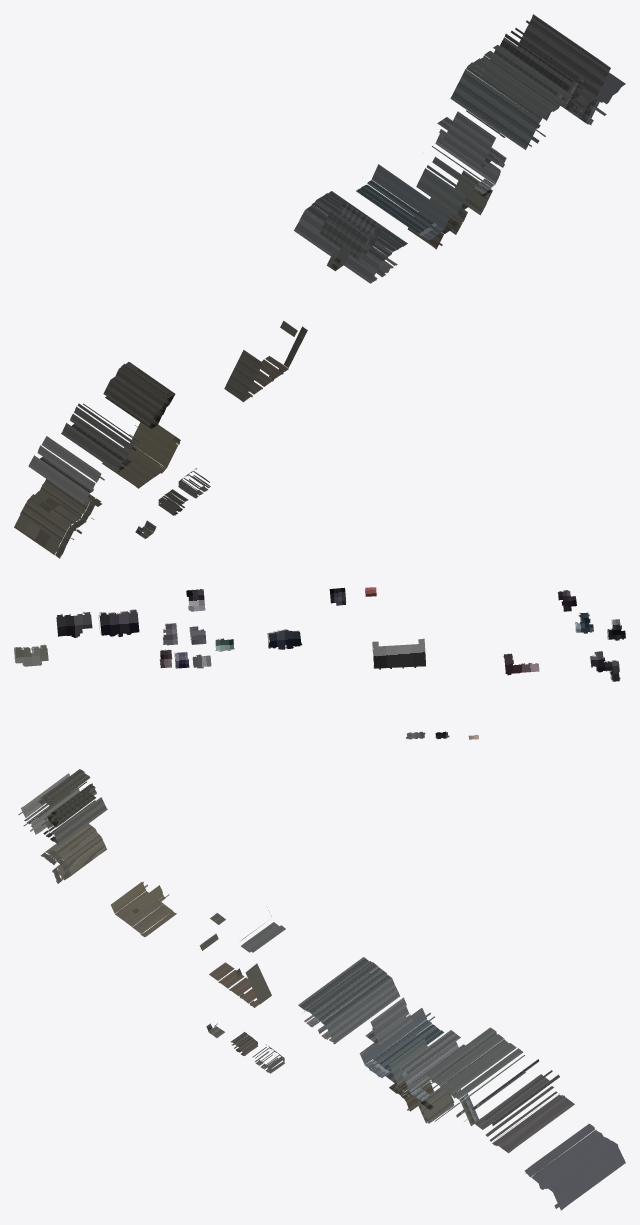
File: tile_LOD2_r0_c3.glb
The picture shows the model from 3 angles, top to bottom: view 1: azimuth 30°, elevation 25°; view 2: azimuth 150°, elevation 25°; view 3: azimuth 270°, elevation 25°; orthographic projection. The views are drawn at different scales.
Size of the model in its own units: 538 by 150 by 367.
Materials: 107 (107 with a texture image).
